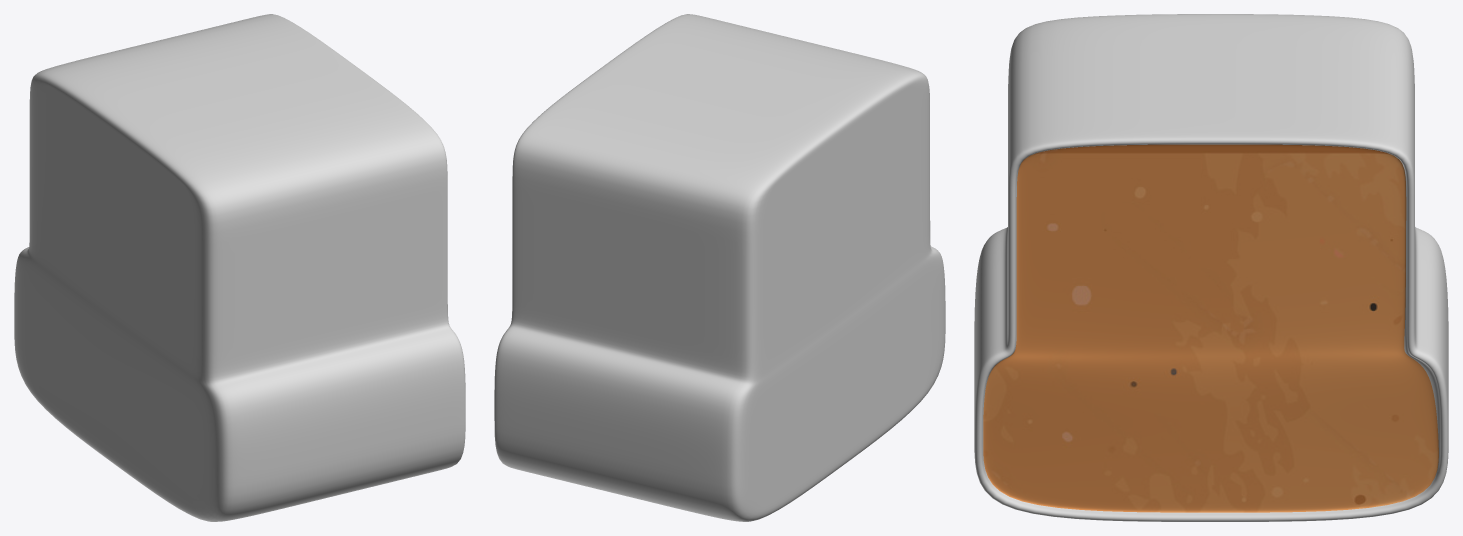
The picture shows the model from 3 angles, left to right: view 1: azimuth 30°, elevation 25°; view 2: azimuth 150°, elevation 25°; view 3: azimuth 270°, elevation 25°; orthographic projection. The views are drawn at different scales.
Parts seen in each view (by area): view 1: Bread; view 2: Bread; view 3: Bread.
Part boxes in pixels (x1,y1,x2,y2): Bread: [14, 14, 465, 521]; Bread: [494, 14, 945, 521]; Bread: [974, 14, 1448, 521].
Size of the model in its own units: 1.59 by 2.18 by 2.44.
